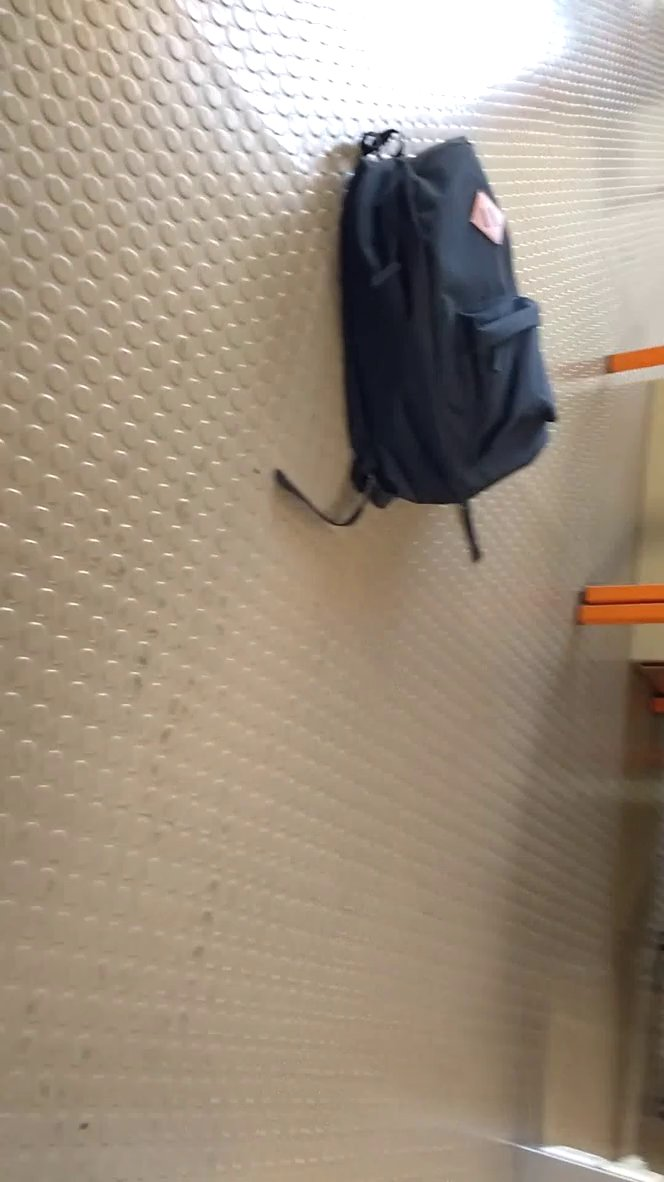bag: (264, 118, 573, 581)
